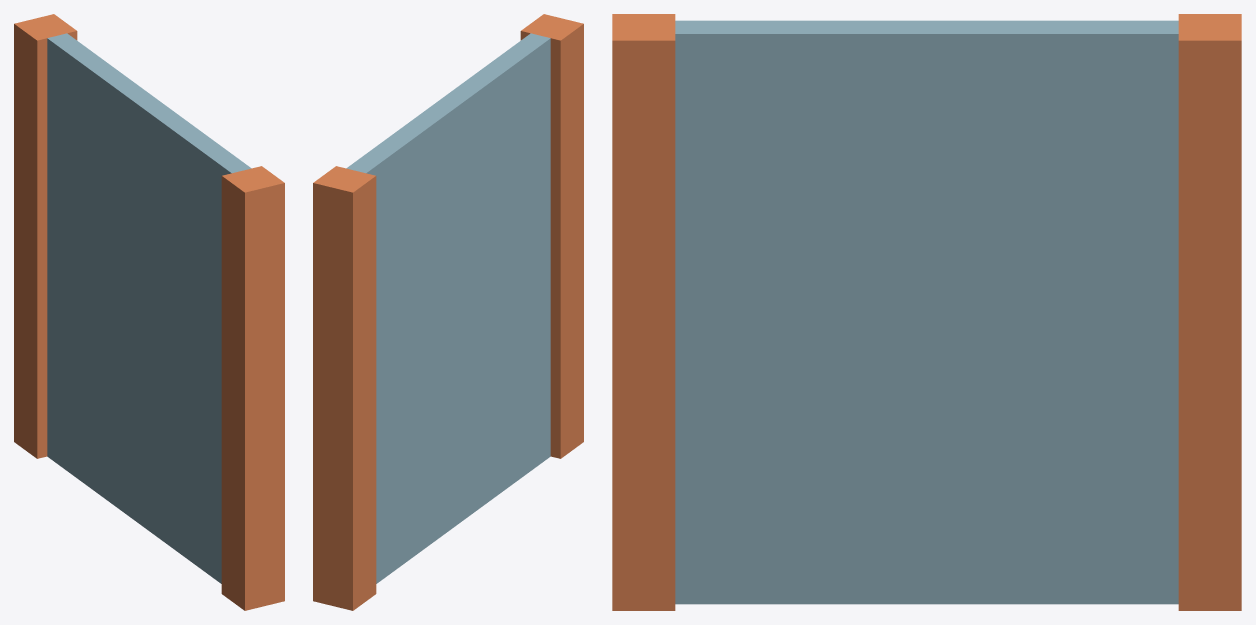
Rendered from wall.obj.
3 renders of one model, left to right at view 1: azimuth 30°, elevation 25°; view 2: azimuth 150°, elevation 25°; view 3: azimuth 270°, elevation 25°, orthographic. The views are drawn at different scales.
Parts seen in each view (by area): view 1: wall; view 2: wall; view 3: wall.
Part boxes in pixels (x1=…): wall: x1=14, y1=14, x2=284, y2=610; wall: x1=313, y1=14, x2=583, y2=610; wall: x1=612, y1=14, x2=1241, y2=610.
Bounding box in the file's own units: 0.1 × 1 × 1.
